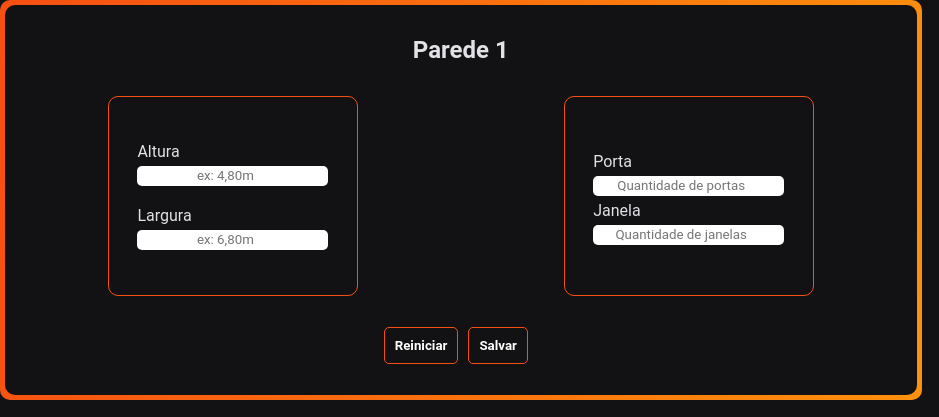
Test: Verifica se as mensagens de erro são renderizadas › Verifica se a mensagem de erro de Largura aparece, ao clicar no botão salvar sem preencher o campo de Largura
Type "5" into the number field labelled "Altura". click: (233, 176)
box: [137,166,328,186]
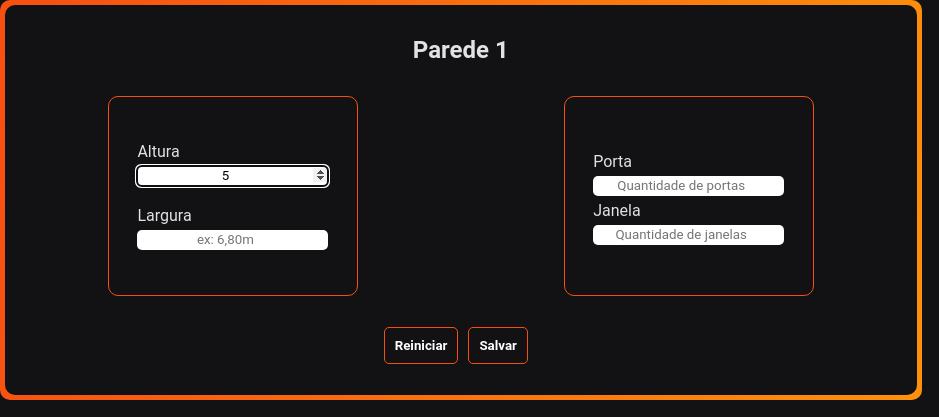
Click the button "Salvar". click: click(498, 345)
box: [468,327,528,364]
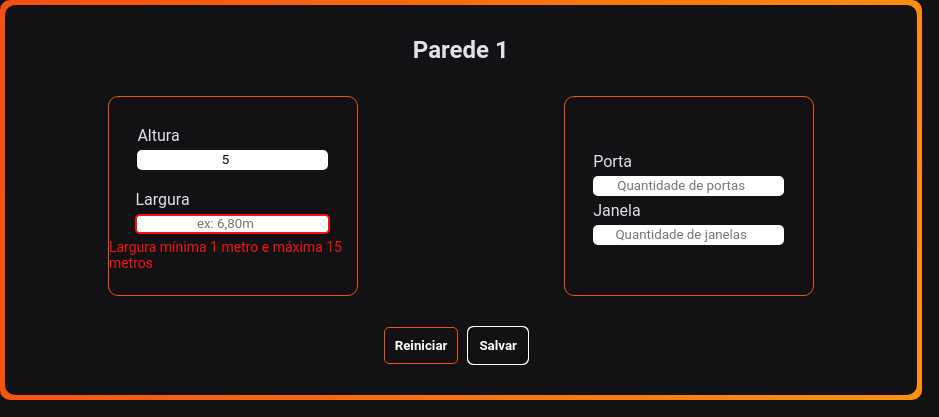
Now the text "Largura mínima 1 metro e máxima 15 metros" is shown, box [109,238,357,270]
